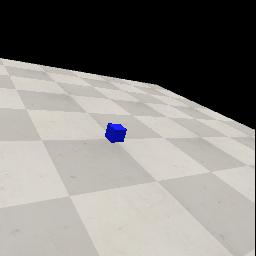box: (105, 123, 127, 143)
